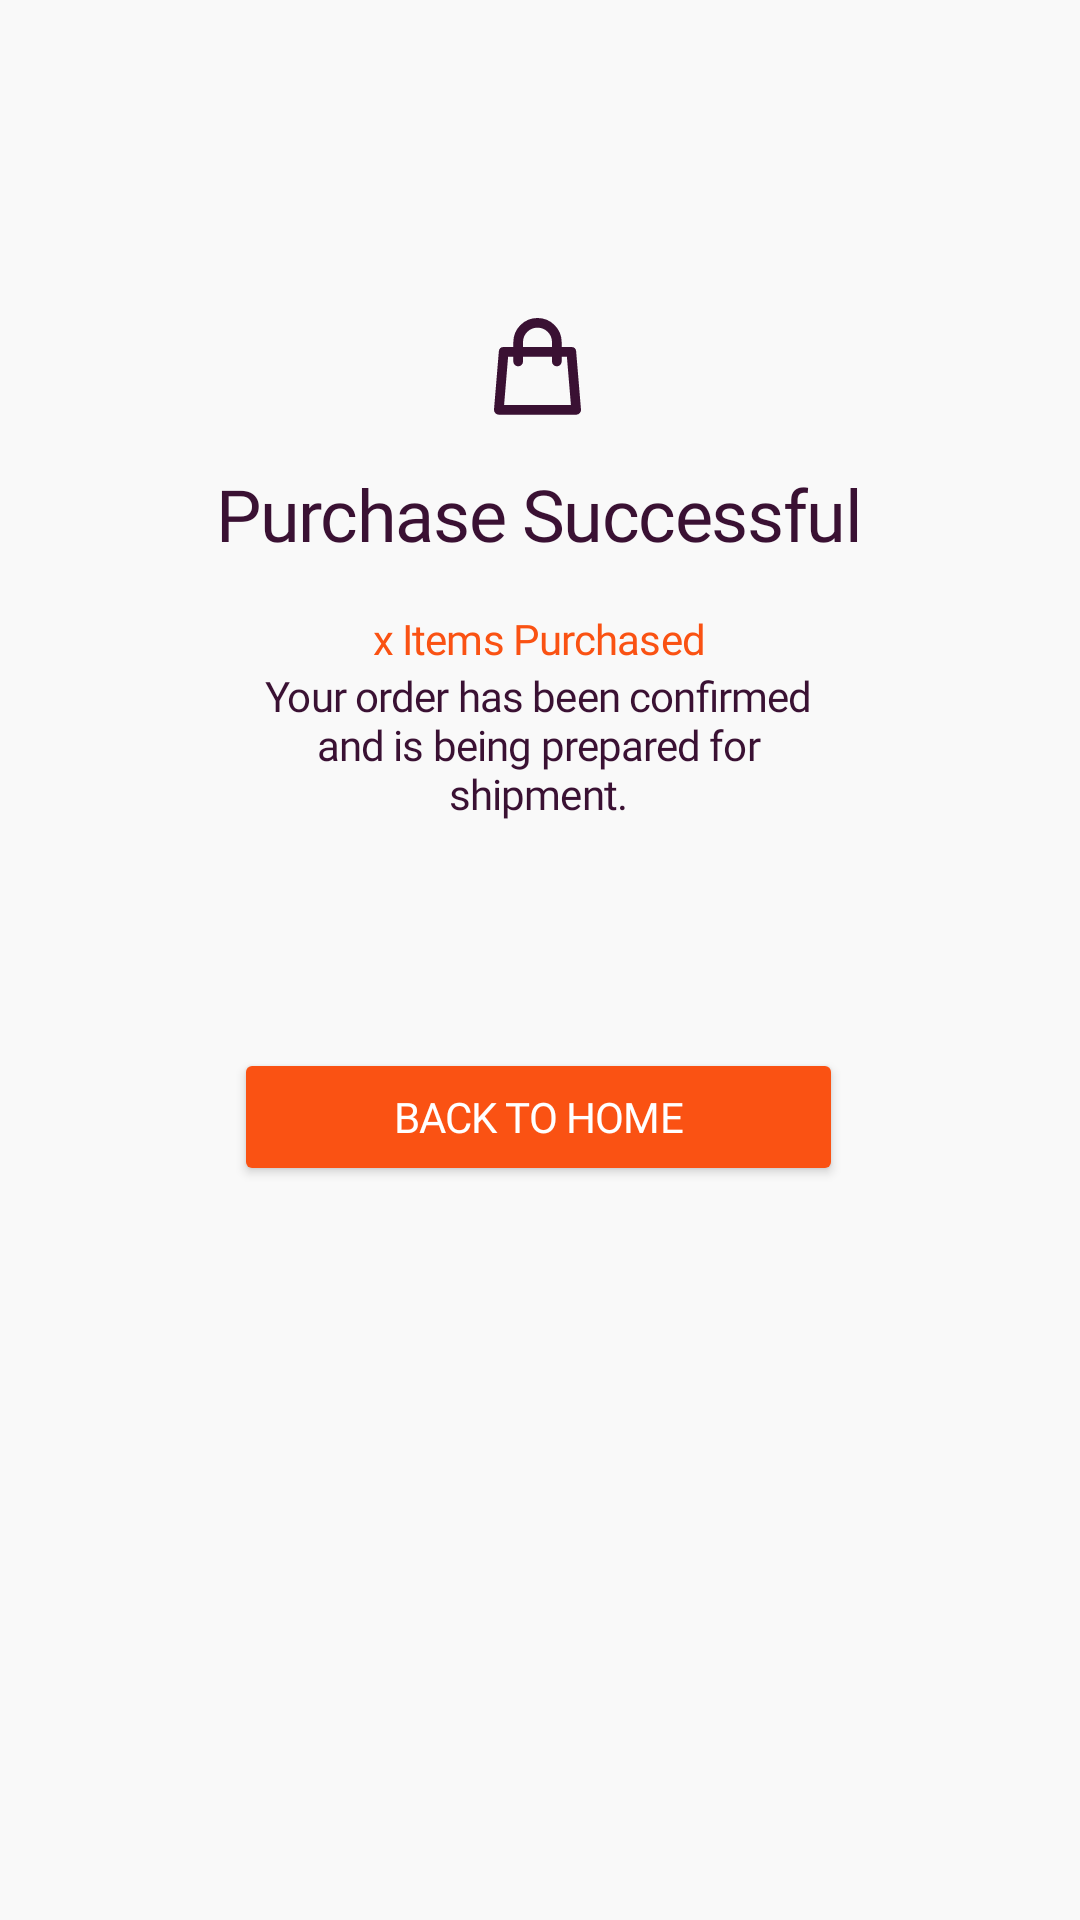

Named icons in this screenshot (1080px x 1920px) and their centers, (x,y):
bag: (537,366)
